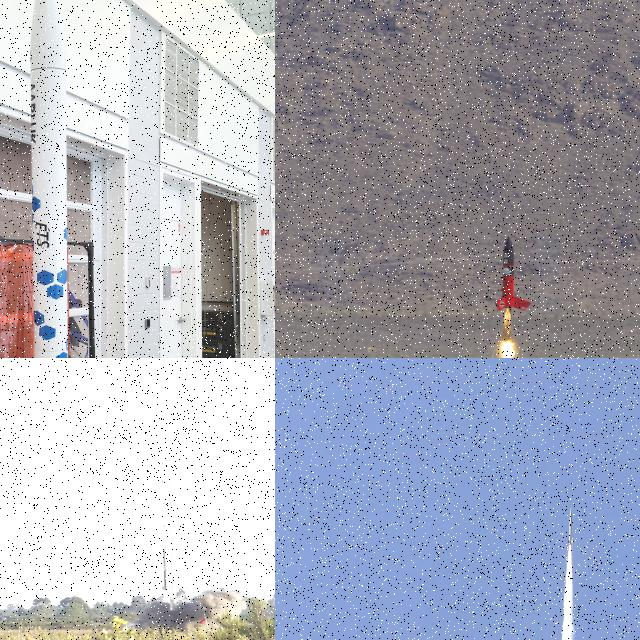Rocket: (30, 0, 68, 358), (494, 234, 532, 312), (161, 548, 170, 591), (567, 508, 573, 548)
